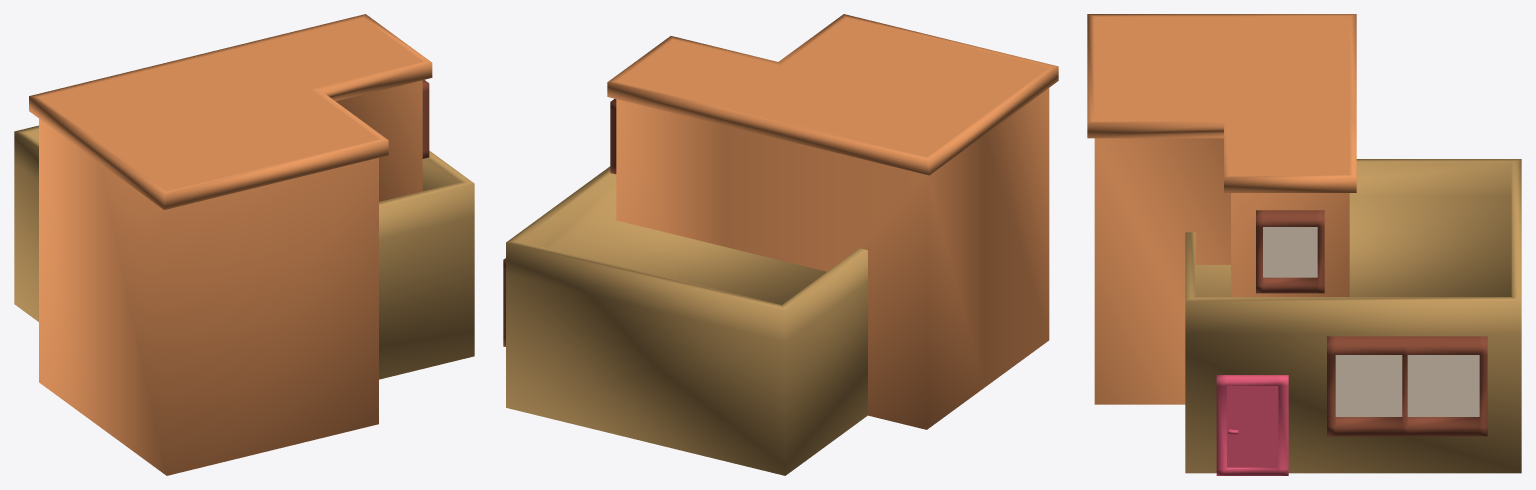
Rendered from Maison3.fbx.
3 views of the same model, side by side, from view 1: azimuth 30°, elevation 25°; view 2: azimuth 150°, elevation 25°; view 3: azimuth 270°, elevation 25° (orthographic). The views are drawn at different scales.
Visible parts, largest first — view 1: Maison3.001; view 2: Maison3.001; view 3: Maison3.001.
Boxes of the visible parts, x1=… form: Maison3.001: x1=14, y1=14, x2=474, y2=475; Maison3.001: x1=503, y1=14, x2=1058, y2=475; Maison3.001: x1=1087, y1=14, x2=1521, y2=475.
Size of the model in its own units: 1088 by 782 by 1082.
